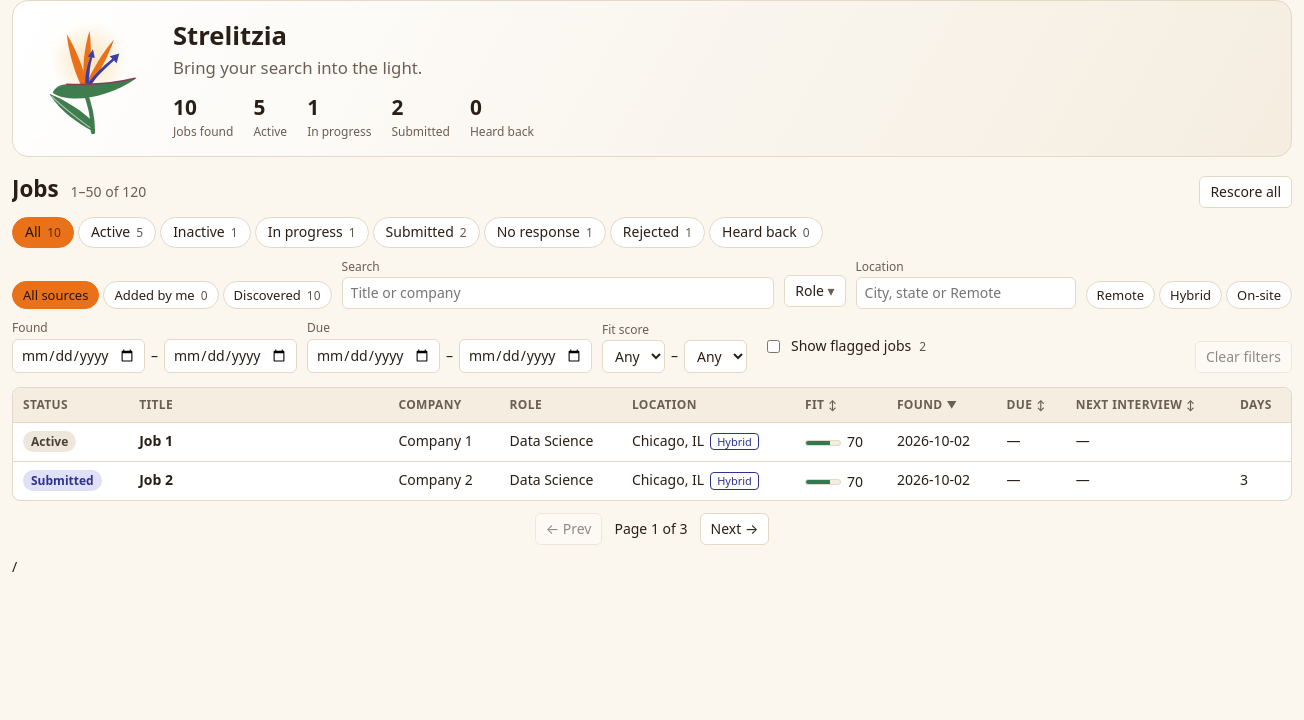
JobsPage › writes the sort to the URL and refetches when a header is clicked
This screenshot has width=1304, height=720.
Expected: the link "Job 1" is shown, [139, 430, 173, 450]
Click the button "Fit ↕" at (821, 405), box [805, 396, 837, 414]
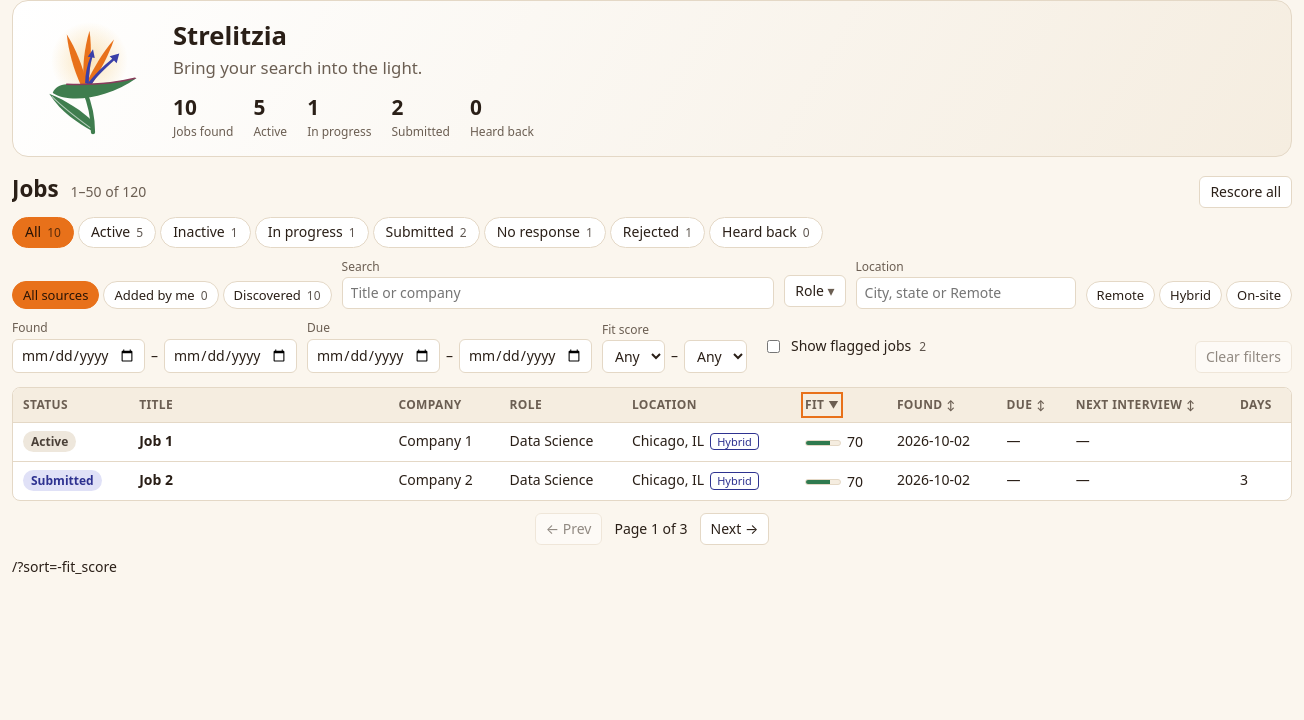
Expected: the text with test id "location" reads "/?sort=-fit_score", [12, 557, 117, 576]
Click the button "Fit ▼" at (822, 405), box [805, 396, 839, 414]
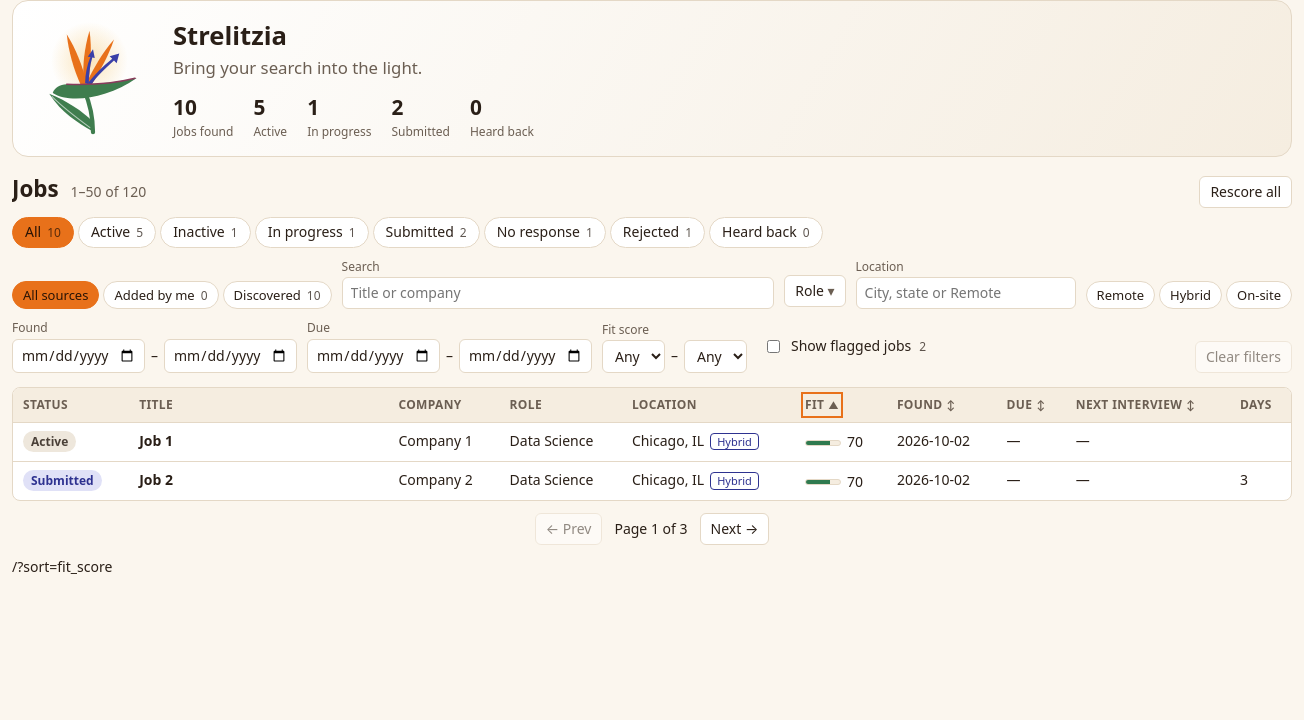
Expected: the text with test id "location" reads "/?sort=fit_score", [12, 557, 112, 576]
